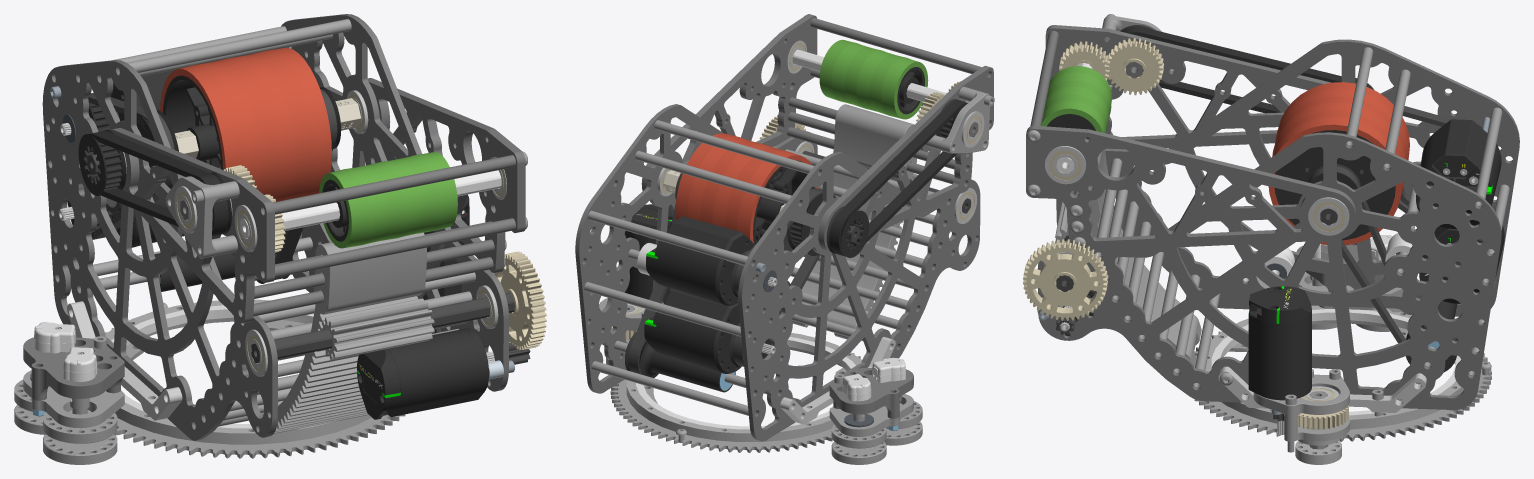
3 renders of one model, left to right at view 1: azimuth 30°, elevation 25°; view 2: azimuth 150°, elevation 25°; view 3: azimuth 270°, elevation 25°, orthographic. The views are drawn at different scales.
Parts seen in each view (by area): view 1: Shooter??? (×4), 4" Stealth Wheel (40A, 1/2" Hex Bore) (×3), Spur gear (194 teeth), Rod-Al5*8*174 (×4), Kraken X44 Brushless Motor (×2), 2" Stealth Wheel (35A, 1/2" Hex Bore) (×3), Rod-AL5*8*162 (×6), ????? (×2), Spur gear (12 teeth), Gear, Part-UpBearingHolder, 48t Aluminum Spur Gear (20 DP, 1/2" Hex Bore, VersaKeys) (+16 smaller); view 2: Shooter??? (×4), Kraken X60 Brushless Motor (×2), Rod-AL5*8*162 (×9), 4" Stealth Wheel (40A, 1/2" Hex Bore) (×3), 2" Stealth Wheel (35A, 1/2" Hex Bore) (×3), Spur gear (194 teeth), Belt-450-5m-10wide, Rod-Al5*8*174 (×4), ????? (×2), Part-UpBearingHolder, Gear, MiniIndexer (+13 smaller); view 3: Shooter??? (×4), 4" Stealth Wheel (40A, 1/2" Hex Bore) (×3), Rod-AL5*8*162 (×11), Kraken X44 Brushless Motor, 48t Aluminum Spur Gear (20 DP, 1/2" Hex Bore, VersaKeys), Kraken X60 Brushless Motor (×2), 2" Stealth Wheel (35A, 1/2" Hex Bore) (×3), Gear, Belt-450-5m-10wide, Part-UpBearingHolder, 32t Aluminum Spur Gear (20 DP, 1/2" Hex Bore), Spur gear (194 teeth) (+14 smaller).
Part boxes in pixels (<box>): Shooter??? (×4): <box>42,14,525,440</box>; 4" Stealth Wheel (40A, 1/2" Hex Bore) (×3): <box>160,47,331,201</box>; Spur gear (194 teeth): <box>274,232,426,433</box>; Rod-Al5*8*174 (×4): <box>253,155,515,316</box>; Kraken X44 Brushless Motor (×2): <box>357,195,494,419</box>; 2" Stealth Wheel (35A, 1/2" Hex Bore) (×3): <box>319,152,457,248</box>; Rod-AL5*8*162 (×6): <box>99,19,475,339</box>; ????? (×2): <box>23,337,124,428</box>; Spur gear (12 teeth): <box>320,298,434,359</box>; Gear: <box>105,317,405,458</box>; Part-UpBearingHolder: <box>105,299,371,444</box>; 48t Aluminum Spur Gear (20 DP, 1/2" Hex Bore, VersaKeys): <box>494,251,546,350</box>; Shooter??? (×4): <box>575,14,993,441</box>; Kraken X60 Brushless Motor (×2): <box>644,216,777,373</box>; Rod-AL5*8*162 (×9): <box>584,120,913,415</box>; 4" Stealth Wheel (40A, 1/2" Hex Bore) (×3): <box>675,133,818,251</box>; 2" Stealth Wheel (35A, 1/2" Hex Bore) (×3): <box>819,39,928,119</box>; Spur gear (194 teeth): <box>792,104,916,339</box>; Belt-450-5m-10wide: <box>829,100,967,256</box>; Rod-Al5*8*174 (×4): <box>787,18,981,183</box>; ????? (×2): <box>829,368,913,436</box>; Part-UpBearingHolder: <box>626,333,861,441</box>; Gear: <box>610,347,862,452</box>; MiniIndexer: <box>625,332,735,392</box>; Shooter??? (×4): <box>1026,25,1519,410</box>; 4" Stealth Wheel (40A, 1/2" Hex Bore) (×3): <box>1268,82,1409,245</box>; Rod-AL5*8*162 (×11): <box>1096,47,1502,387</box>; Kraken X44 Brushless Motor: <box>1248,286,1311,434</box>; 48t Aluminum Spur Gear (20 DP, 1/2" Hex Bore, VersaKeys): <box>1023,239,1107,320</box>; Kraken X60 Brushless Motor (×2): <box>1416,119,1504,303</box>; 2" Stealth Wheel (35A, 1/2" Hex Bore) (×3): <box>1041,66,1111,139</box>; Gear: <box>1194,320,1491,441</box>; Belt-450-5m-10wide: <box>1121,26,1371,113</box>; Part-UpBearingHolder: <box>1205,305,1463,429</box>; 32t Aluminum Spur Gear (20 DP, 1/2" Hex Bore): <box>1106,38,1164,95</box>; Spur gear (194 teeth): <box>1071,149,1201,366</box>.
Size of the model in its own units: 0.3066 by 0.2525 by 0.3742.
